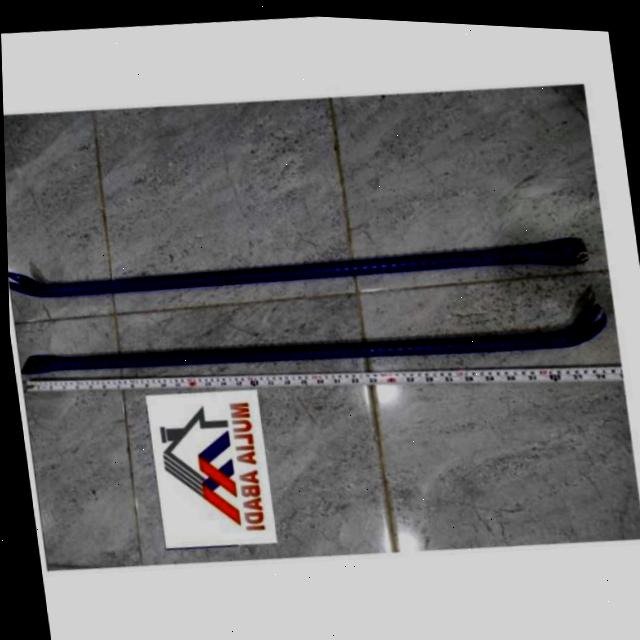crow bar: (14, 279, 613, 378), (6, 225, 589, 300)
